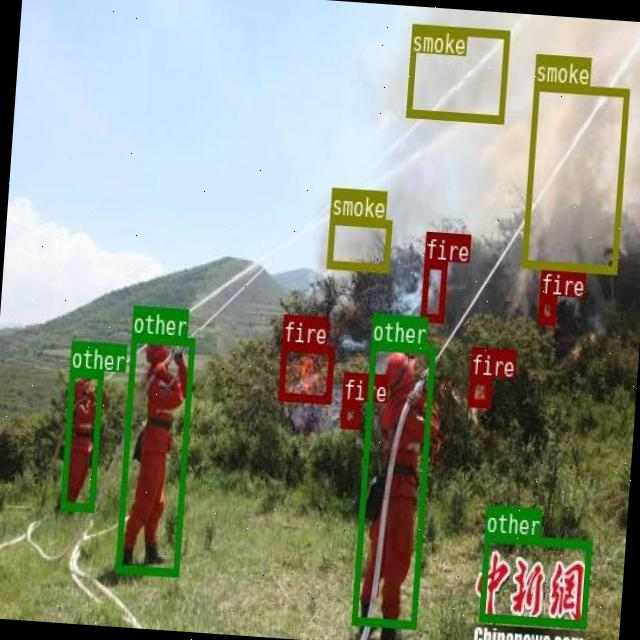fire: (276, 341, 334, 402), (420, 260, 446, 320), (466, 376, 491, 406), (340, 400, 360, 428), (538, 294, 556, 324)
smoke: (521, 81, 629, 272), (406, 22, 508, 122), (326, 213, 391, 270)
